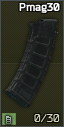AK-74 5.45x39 Magpul PMAG 30 GEN M3 30-round magazine: (0, 0, 64, 127)
